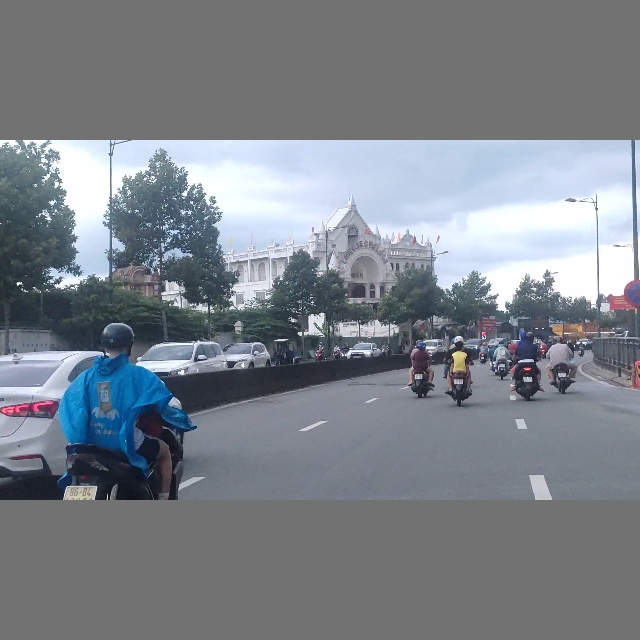P.130: (624, 280, 640, 307)
